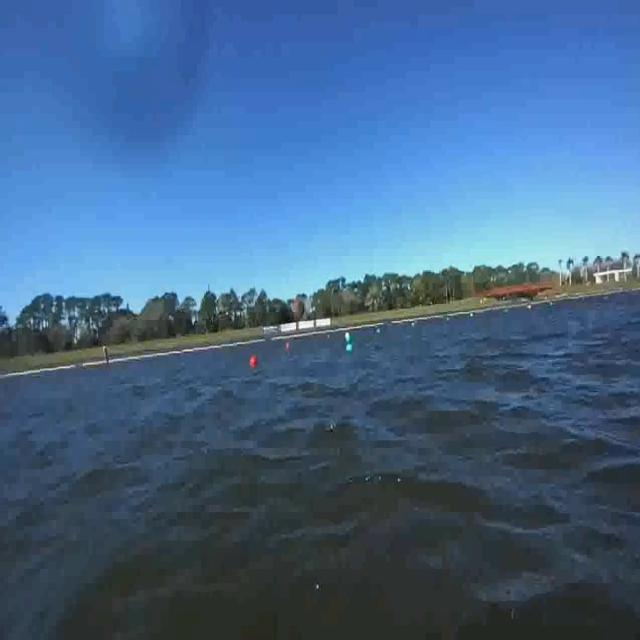green-buoy: (346, 334, 354, 354)
red-buoy: (250, 354, 257, 368)
